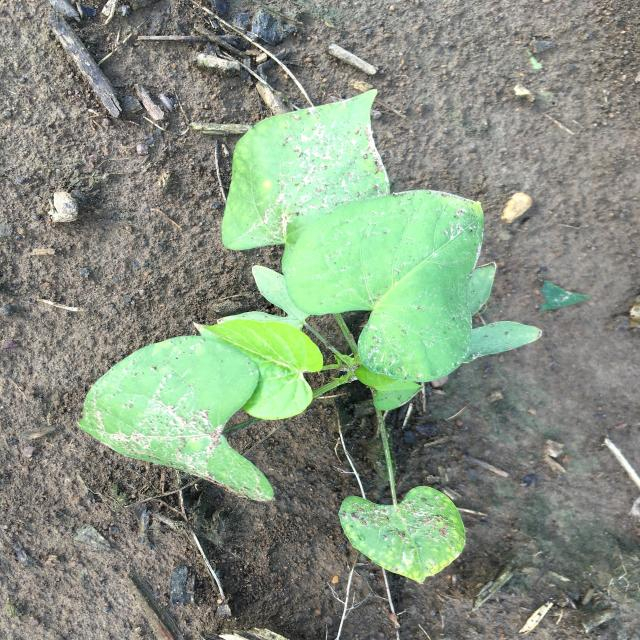MorningGlory: (76, 89, 542, 584)
